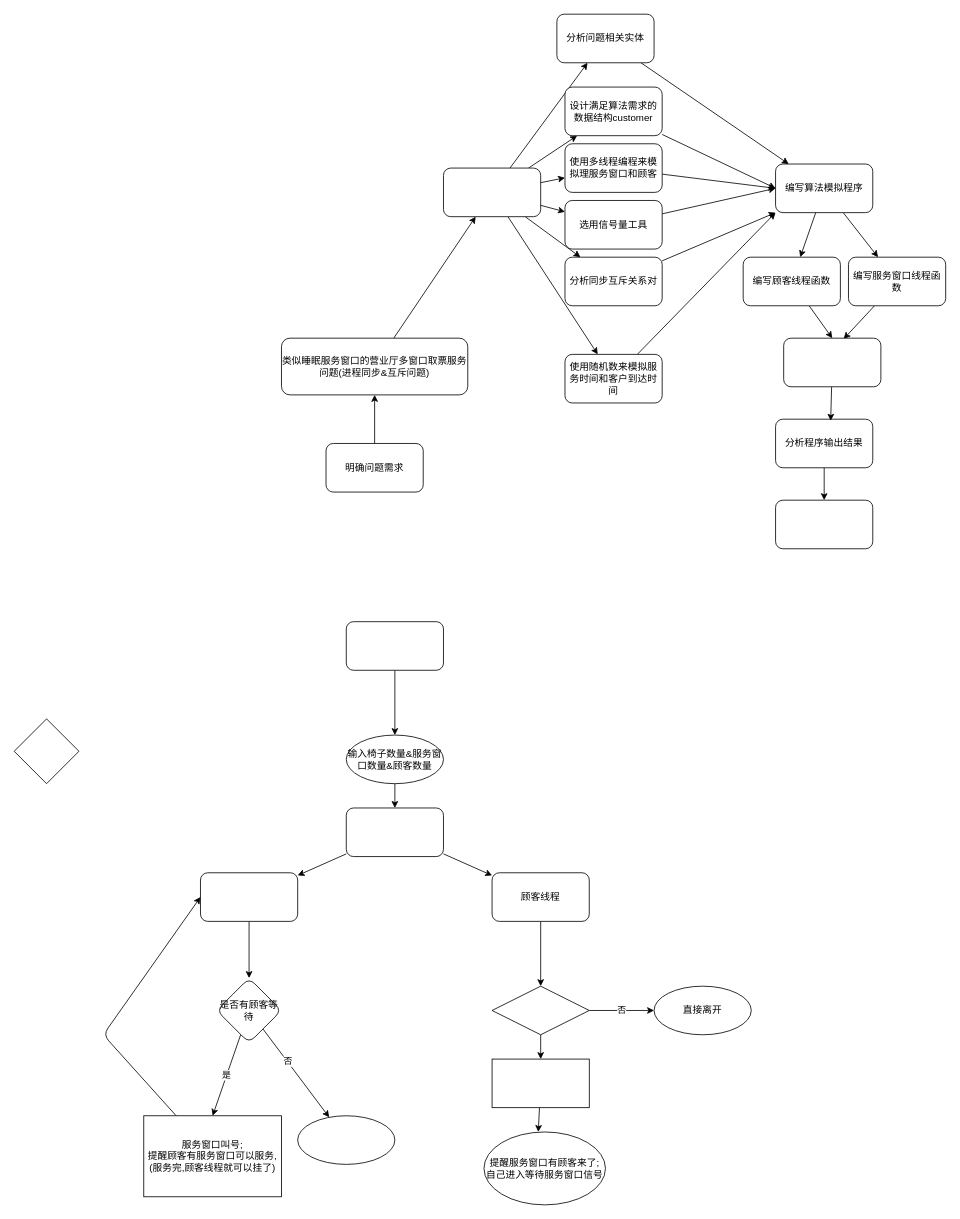
The diagram is 960 pixels wide and 1219 high, and some of its shapes have lost their labels. The shapes that lost their labels are listed below. From the top down, each one's centre as x and y in pixels, then its label:
the point at 492,192: 分析解决方案
the point at 832,362: 编写main函数组织运行代码各个模块
the point at 824,524: 修正并优化程序,并生成报告
the point at 394,645: 开始
the point at 394,832: main函数
the point at 249,896: 服务窗口线程
the point at 540,1010: 是否还有空椅子
the point at 540,1083: 顾客取票(互斥地进行)
the point at 346,1139: 服务窗口睡觉
